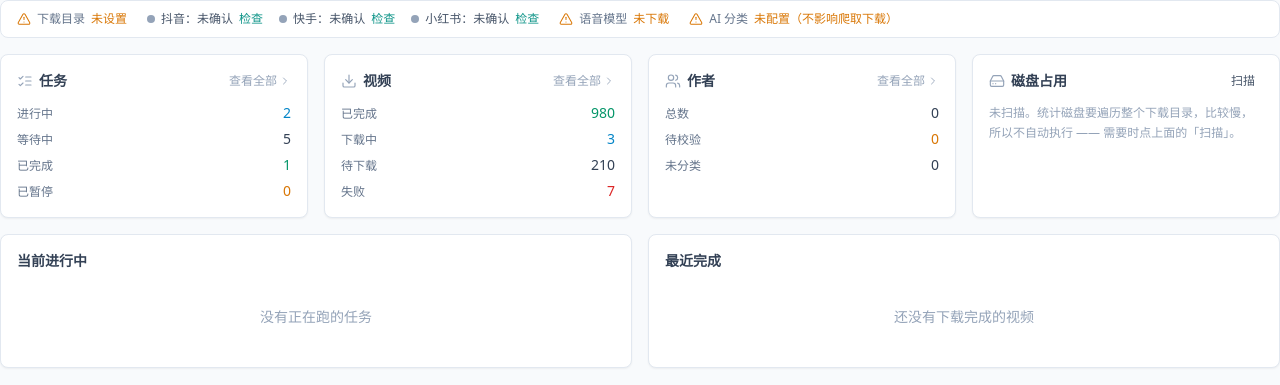
Test: 概览页 › 点「扫描」按钮才真的扫，扫完显示总大小
This screenshot has width=1280, height=385.
Click the button "扫描" at coordinates (1243, 81), box top-left (1223, 71), bottom-right (1263, 91)
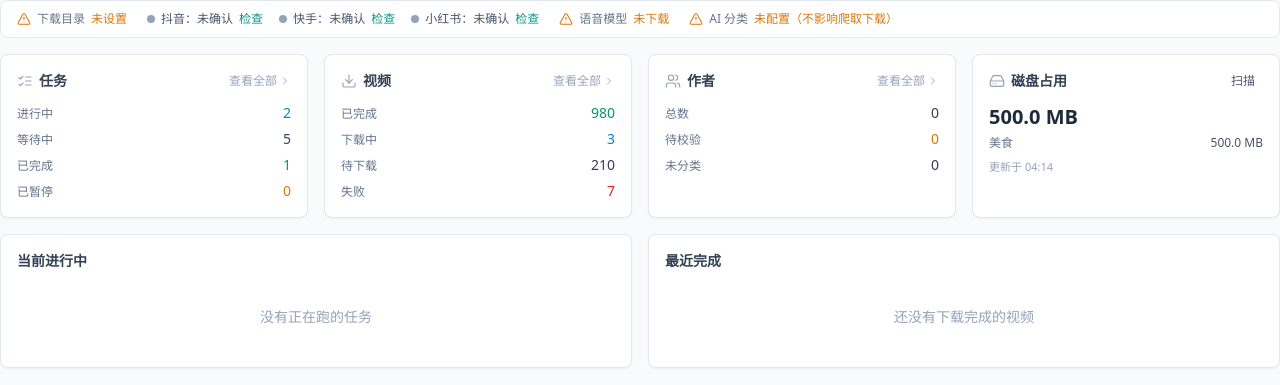
Expected: the text "500.0 MB" is shown, top-left (989, 103), bottom-right (1078, 130)
